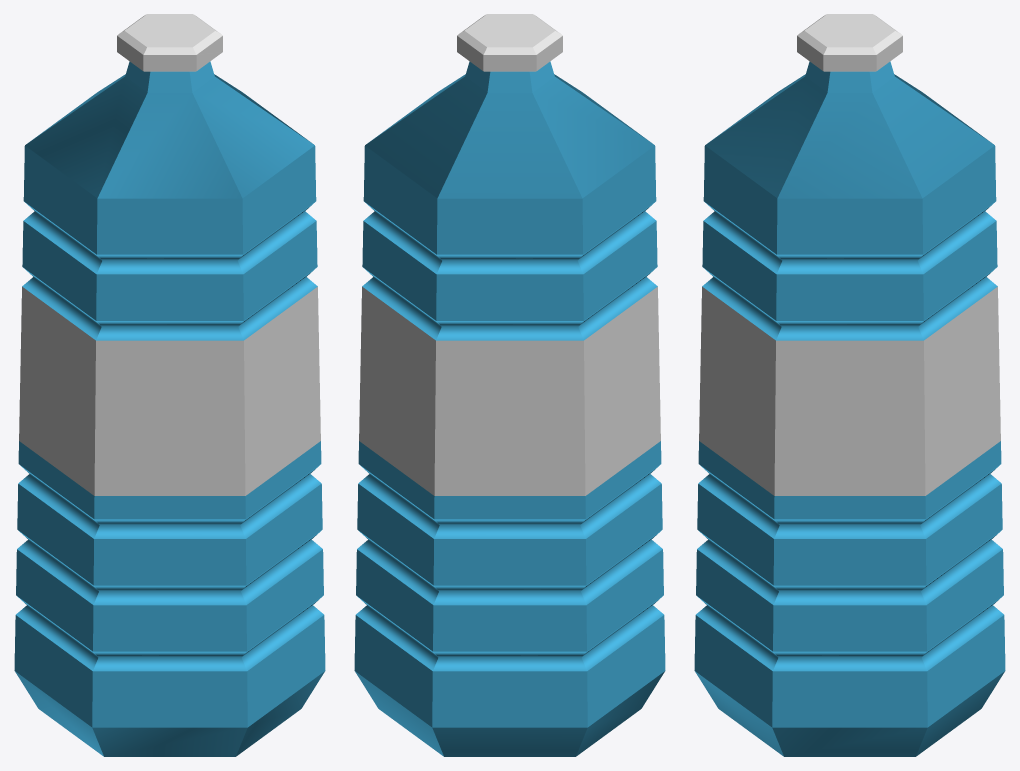
Rendered from Water.fbx.
3 renders of one model, left to right at view 1: azimuth 30°, elevation 25°; view 2: azimuth 150°, elevation 25°; view 3: azimuth 270°, elevation 25°, orthographic.
Parts seen in each view (by area): view 1: Water; view 2: Water; view 3: Water.
Part boxes in pixels (box(x1,y1,x2,y2)): Water: box(14, 14, 325, 756); Water: box(354, 14, 665, 756); Water: box(694, 14, 1005, 756).
Size of the model in its own units: 15.62 by 43.4 by 18.04.
